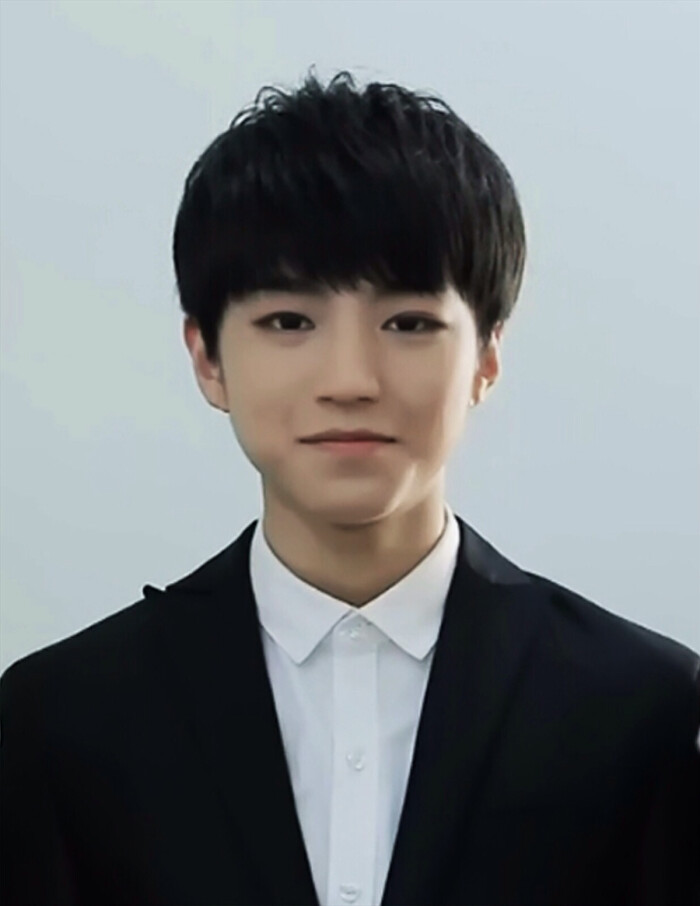unmask: (208, 246, 481, 515)
